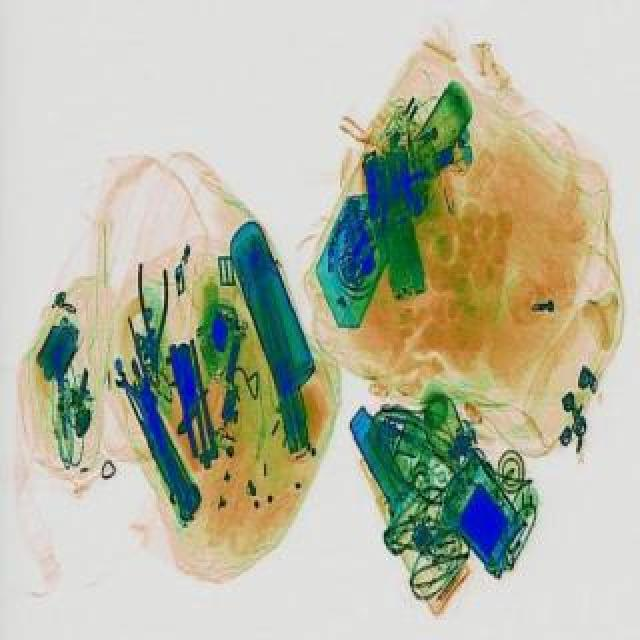wrench: (134, 264, 170, 386)
